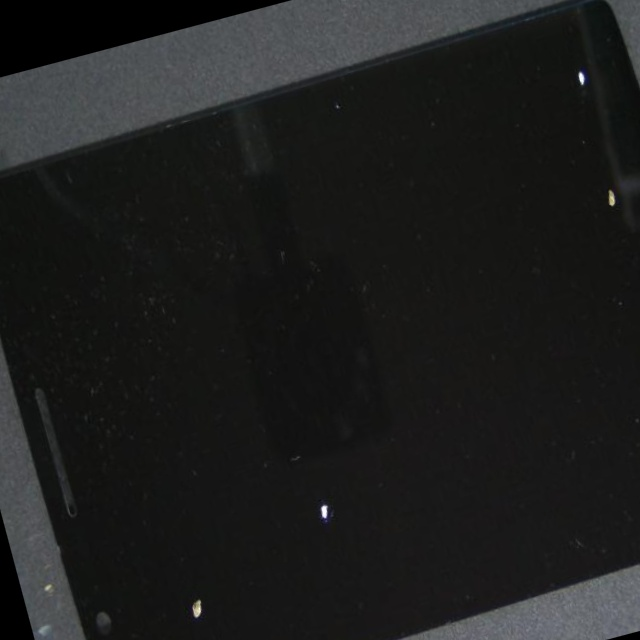stain: (71, 239, 521, 640), (268, 21, 640, 383), (42, 263, 304, 640), (250, 0, 640, 189)
